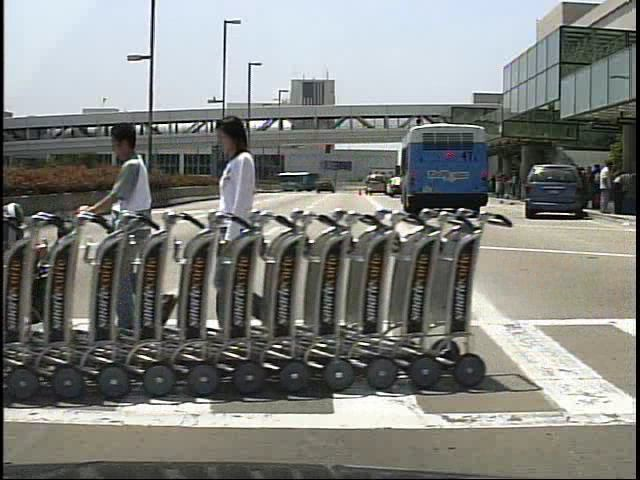person: (205, 113, 288, 350), (86, 120, 169, 339), (597, 160, 618, 215), (589, 163, 605, 214)
